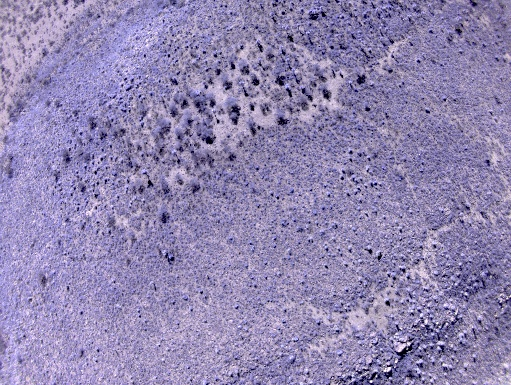agave: (138, 115, 145, 130), (137, 309, 142, 320), (75, 169, 80, 180), (183, 295, 189, 304), (118, 97, 124, 105), (170, 300, 177, 306), (142, 327, 148, 334), (175, 70, 181, 77), (128, 199, 132, 209), (112, 172, 118, 178), (78, 131, 84, 137), (108, 143, 112, 151), (184, 38, 189, 44), (380, 121, 385, 127), (289, 189, 294, 195), (130, 77, 134, 84), (149, 92, 154, 97), (107, 229, 112, 234), (351, 110, 356, 115), (274, 195, 279, 200), (142, 198, 146, 204), (320, 206, 326, 210), (241, 25, 245, 31), (135, 36, 140, 40), (91, 161, 95, 166), (254, 166, 259, 170), (401, 80, 404, 85)
